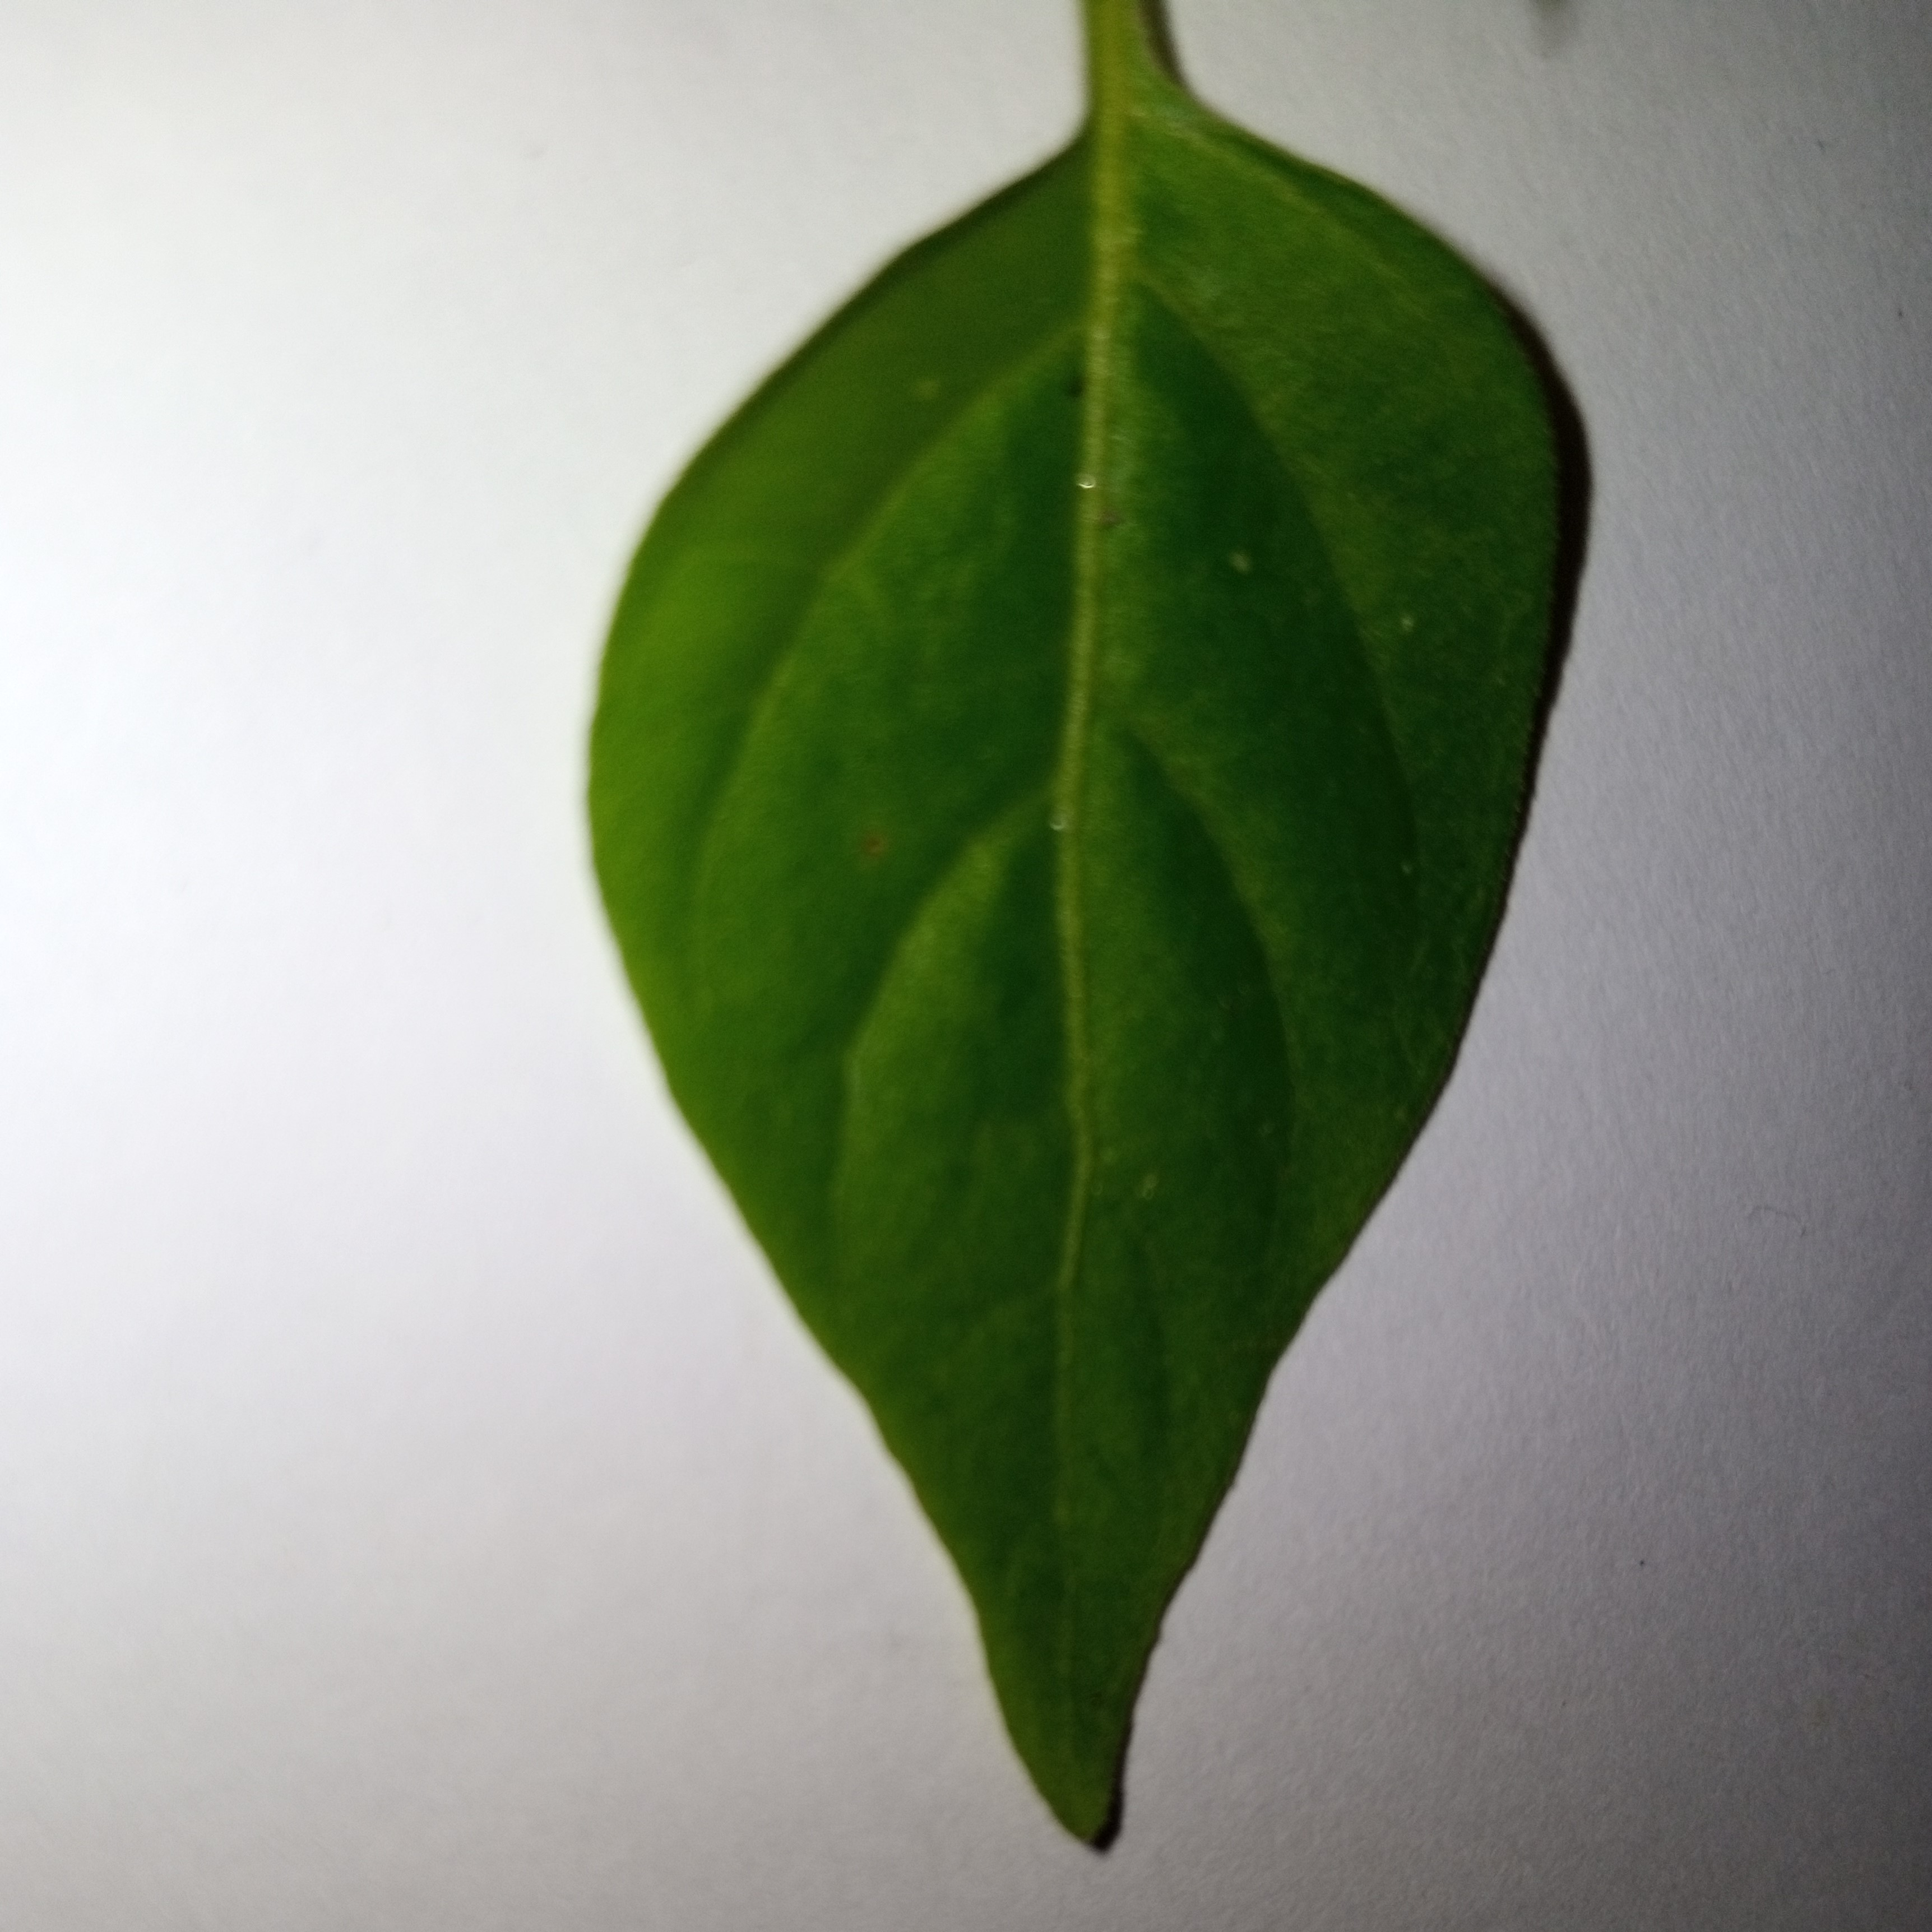Leaf: (418, 57, 1757, 1932)
